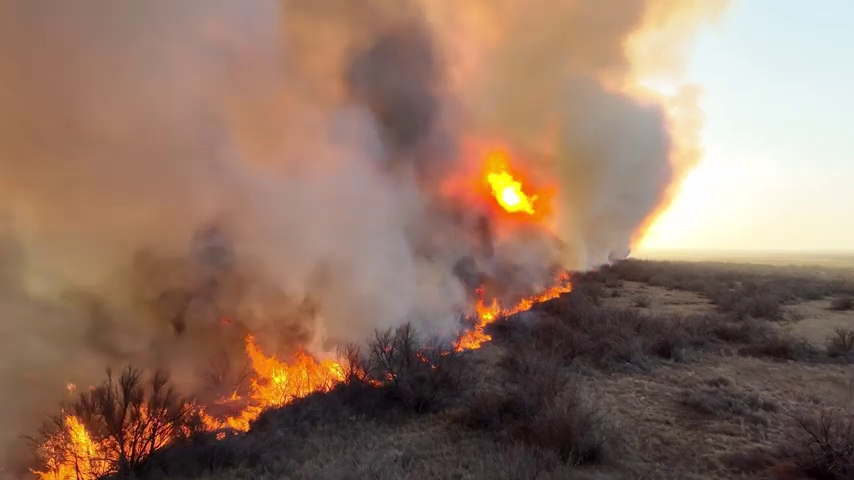forest_fire: (199, 336, 344, 430), (454, 274, 571, 350), (33, 414, 117, 479)
